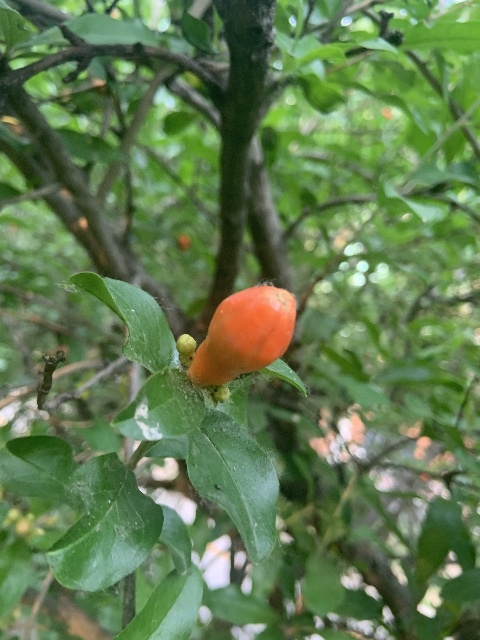bud: (188, 286, 296, 386), (176, 333, 196, 358)
